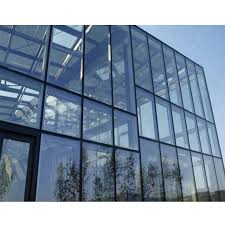glass panel: (36, 134, 79, 200), (0, 25, 49, 78), (0, 68, 42, 127), (48, 25, 82, 92), (84, 25, 111, 103), (111, 26, 135, 112), (43, 86, 80, 136), (0, 139, 29, 200), (82, 143, 113, 200), (140, 139, 163, 200), (131, 27, 152, 91), (83, 99, 112, 143), (115, 149, 140, 200), (148, 36, 167, 98), (160, 144, 181, 200), (163, 45, 181, 105), (175, 52, 192, 111), (136, 88, 156, 138), (186, 59, 203, 117), (196, 66, 213, 121), (178, 149, 196, 200), (114, 110, 137, 149), (192, 152, 209, 200), (156, 98, 173, 143), (203, 155, 219, 200), (172, 105, 188, 147), (185, 111, 200, 150), (197, 117, 210, 153), (207, 123, 220, 156), (214, 158, 224, 200)
